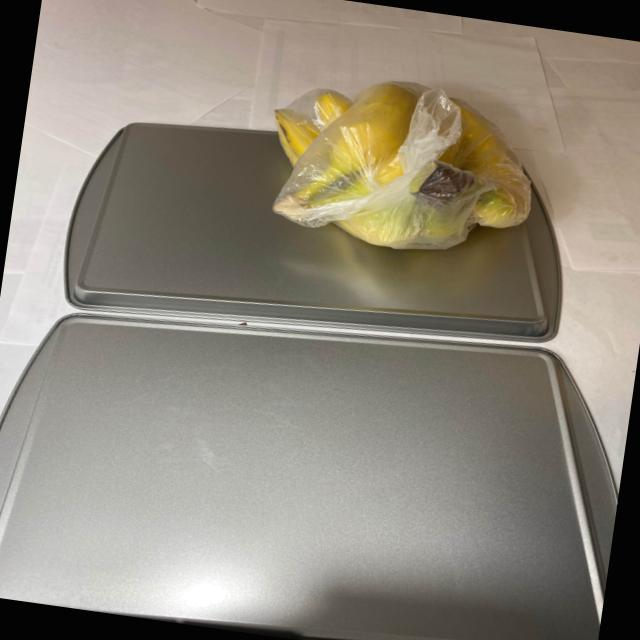banana: (254, 62, 554, 274)
